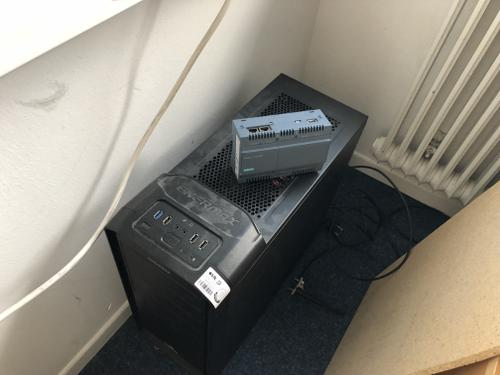device: (232, 110, 332, 184)
